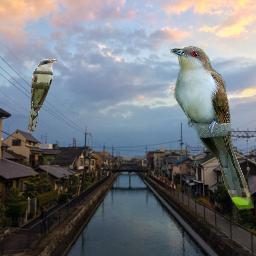Cuckoo: (170, 46, 254, 210), (28, 59, 57, 132)
